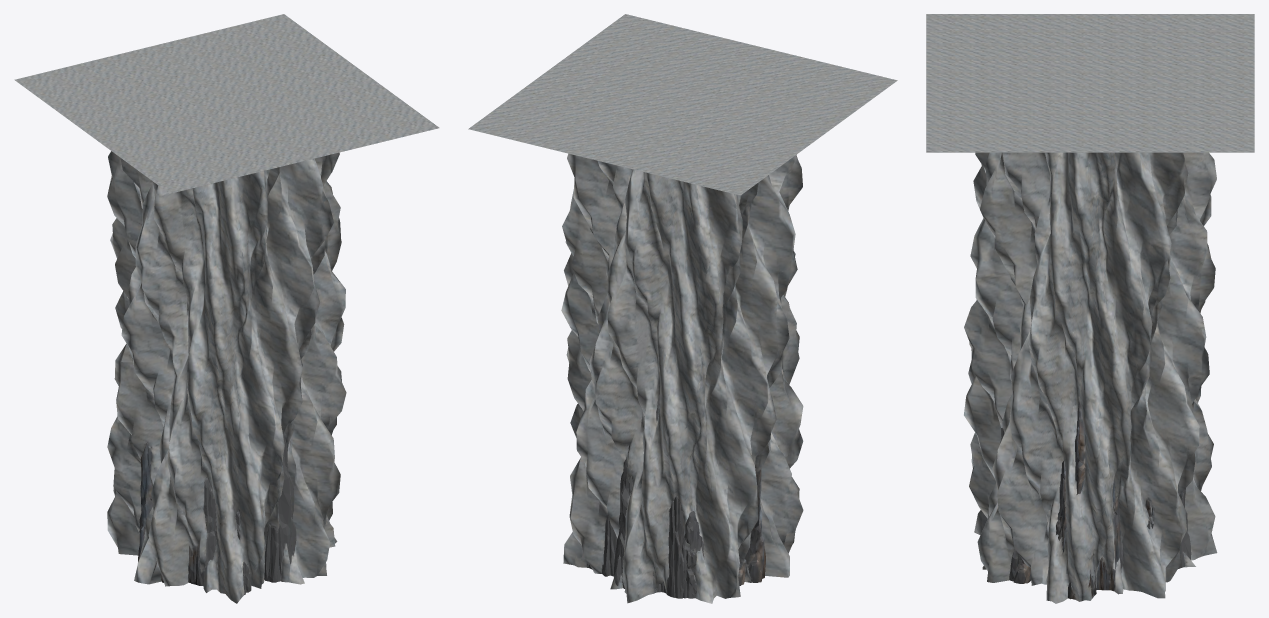
The model's file is room.glb.
3 views of the same model, side by side, from view 1: azimuth 30°, elevation 25°; view 2: azimuth 150°, elevation 25°; view 3: azimuth 270°, elevation 25° (orthographic). The views are drawn at different scales.
Visible parts, largest first — view 1: LAVA-TUBE; view 2: LAVA-TUBE; view 3: LAVA-TUBE.
Boxes of the visible parts, x1=… form: LAVA-TUBE: x1=14, y1=14, x2=439, y2=603; LAVA-TUBE: x1=468, y1=14, x2=897, y2=603; LAVA-TUBE: x1=926, y1=14, x2=1254, y2=603.
Size of the model in its own units: 34 by 54 by 34.
1 material, 1 textured.
